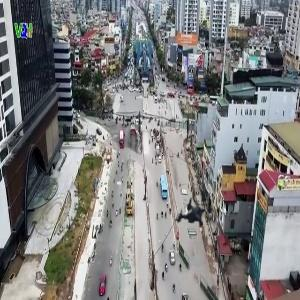drone: (165, 191, 225, 251)
